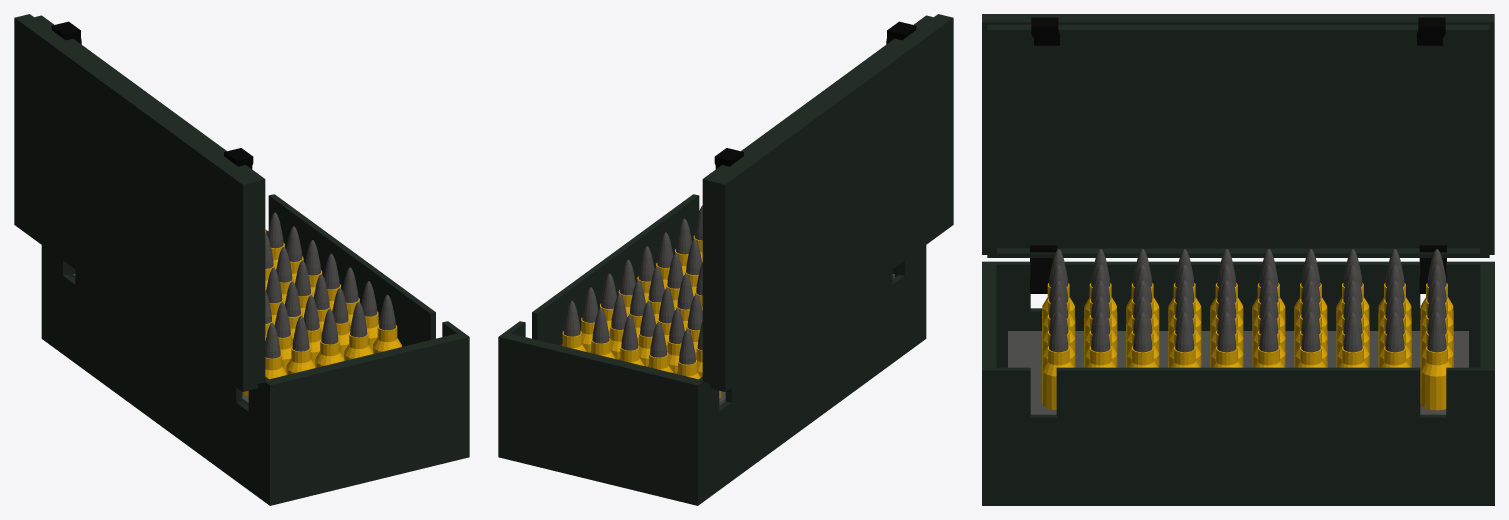
File: Ammo_Create.fbx
3 views of the same model, side by side, from view 1: azimuth 30°, elevation 25°; view 2: azimuth 150°, elevation 25°; view 3: azimuth 270°, elevation 25° (orthographic). The views are drawn at different scales.
Parts seen in each view (by area): view 1: Cube.002, Cube, Bullet high; view 2: Cube.002, Cube, Bullet high; view 3: Cube.002, Cube, Bullet high, Cube.003, Cube.001.
Part boxes in pixels (x1,y1,x2,y2): Cube.002: (14, 14, 265, 391); Cube: (41, 194, 469, 505); Bullet high: (242, 212, 401, 396); Cube.002: (702, 14, 953, 391); Cube: (498, 194, 926, 505); Bullet high: (561, 205, 720, 398); Cube.002: (982, 14, 1494, 257); Cube: (982, 261, 1494, 505); Bullet high: (1042, 249, 1453, 410); Cube.003: (1008, 331, 1468, 414); Cube.001: (1030, 245, 1446, 293).
Size of the model in its own units: 142 by 199 by 248.
